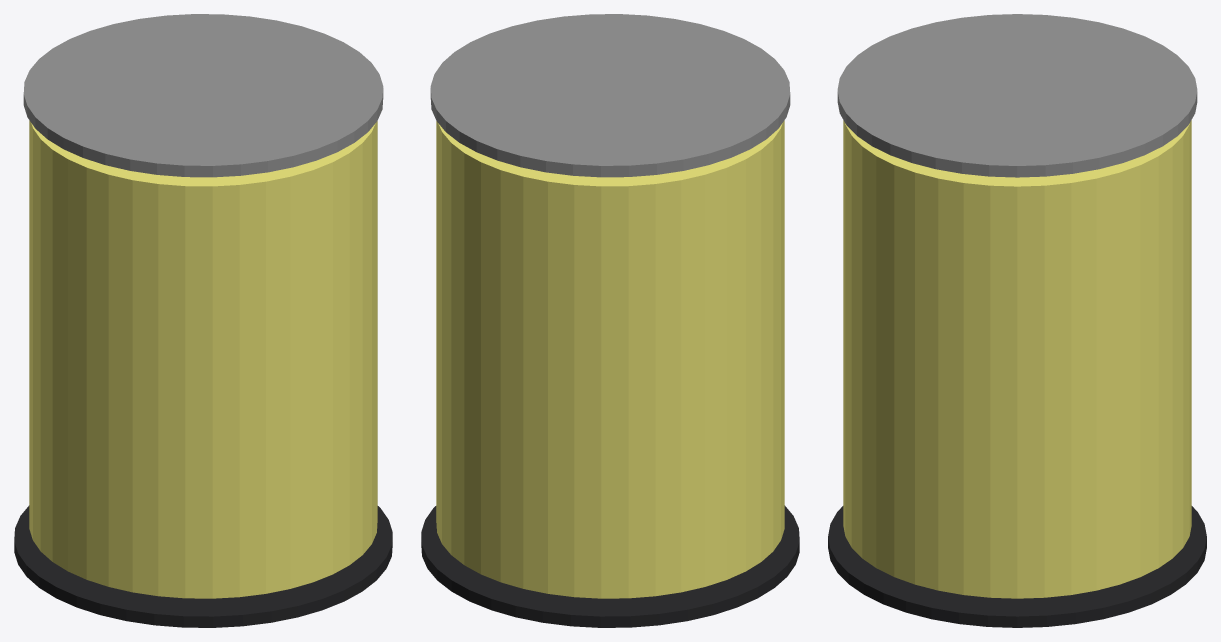
Rendered from Fiber_5.glb.
The picture shows the model from 3 angles, left to right: view 1: azimuth 30°, elevation 25°; view 2: azimuth 150°, elevation 25°; view 3: azimuth 270°, elevation 25°; orthographic projection.
Visible parts, largest first — view 1: Winding, FlangeB, FlangeA; view 2: Winding, FlangeB, FlangeA; view 3: Winding, FlangeB, FlangeA.
Part boxes in pixels (x1,y1,x2,y2): Winding: (29,120,377,598); FlangeB: (23,14,383,177); FlangeA: (14,505,392,627); Winding: (436,120,784,598); FlangeB: (430,14,790,177); FlangeA: (421,505,799,627); Winding: (843,120,1191,598); FlangeB: (837,14,1197,177); FlangeA: (828,506,1206,627).
Bounding box in the file's own units: 0.09 × 0.12 × 0.09.
